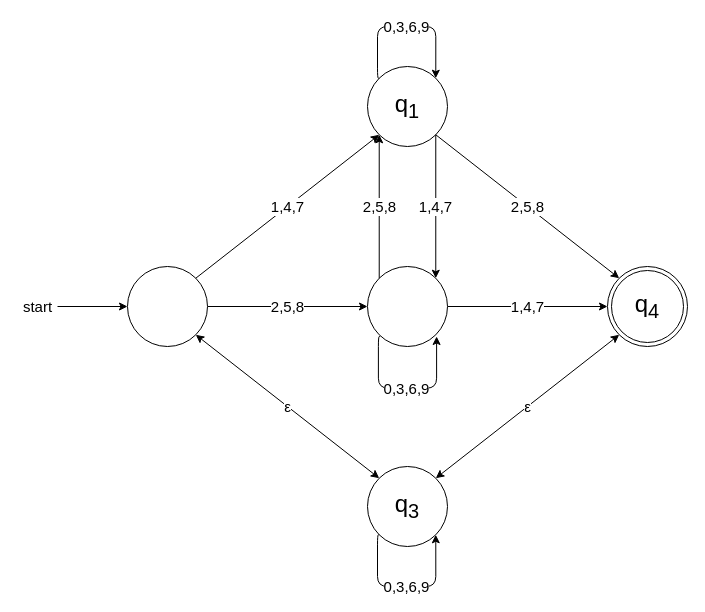
Some shapes in this 705 by 612 pixel diagram are drawn without their labels. The centre of each missing label's shape, as x and y in pixels:
"q 0" goes at point (167, 306).
"q 2" goes at point (407, 306).
